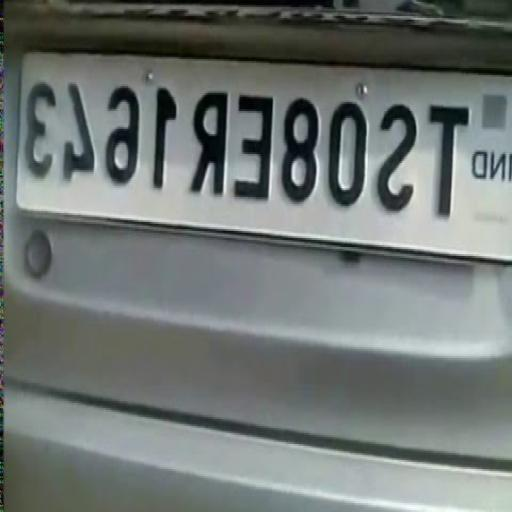License: (16, 46, 512, 262)
